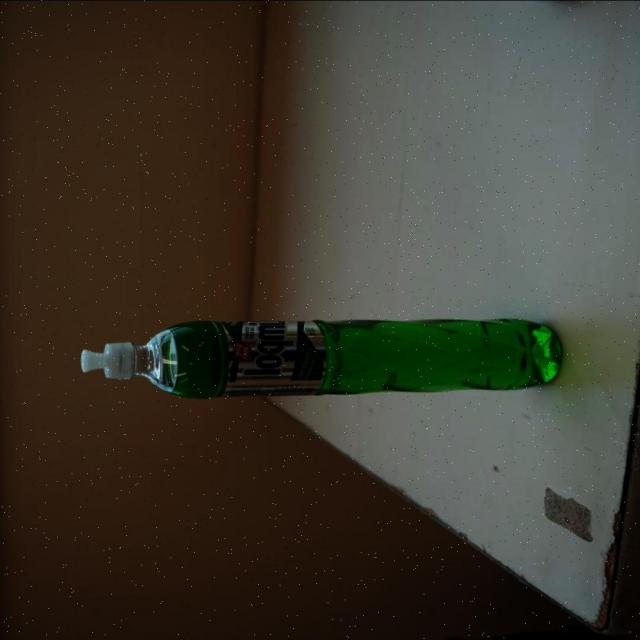Cleaner: (80, 318, 566, 398)
